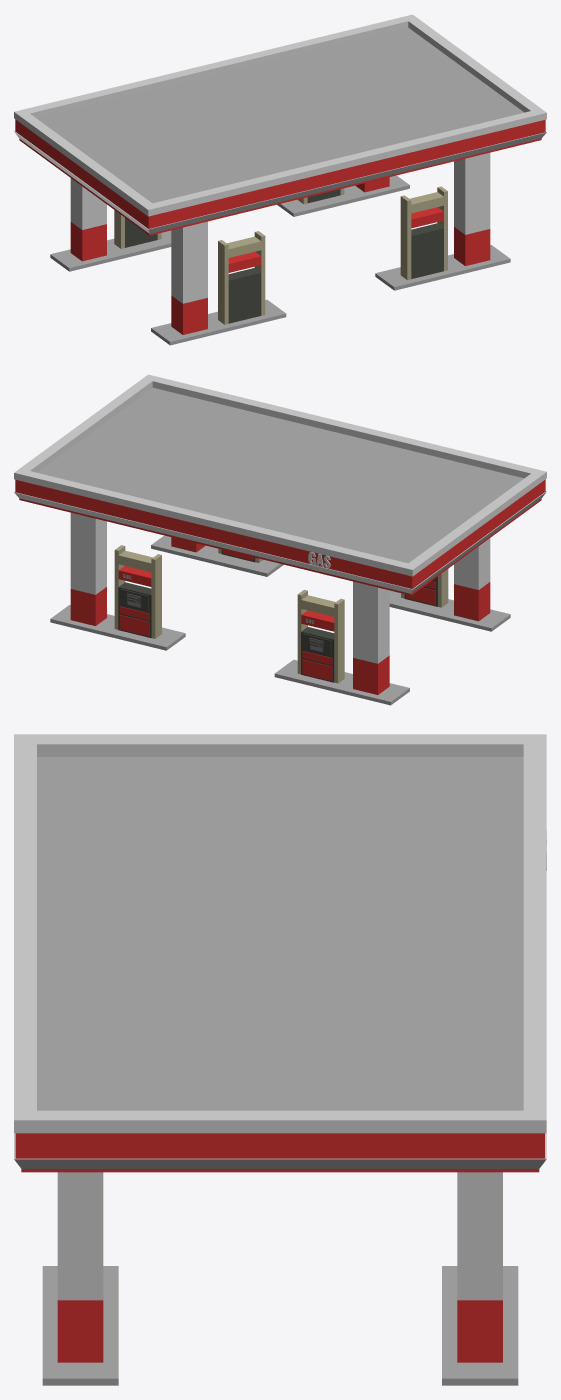
The model's file is spw-urban-bldg-gas-station.glb.
The picture shows the model from 3 angles, top to bottom: view 1: azimuth 30°, elevation 25°; view 2: azimuth 150°, elevation 25°; view 3: azimuth 270°, elevation 25°; orthographic projection. The views are drawn at different scales.
Visible parts, largest first — view 1: SPW_Urban_Bldg_Gas Station; view 2: SPW_Urban_Bldg_Gas Station; view 3: SPW_Urban_Bldg_Gas Station.
Part boxes in pixels (x1,y1,x2,y2): SPW_Urban_Bldg_Gas Station: [14, 14, 546, 345]; SPW_Urban_Bldg_Gas Station: [14, 374, 546, 705]; SPW_Urban_Bldg_Gas Station: [14, 734, 546, 1385].
Size of the model in its own units: 24 by 8.5 by 14.01.
Materials: 1 (1 with a texture image).
